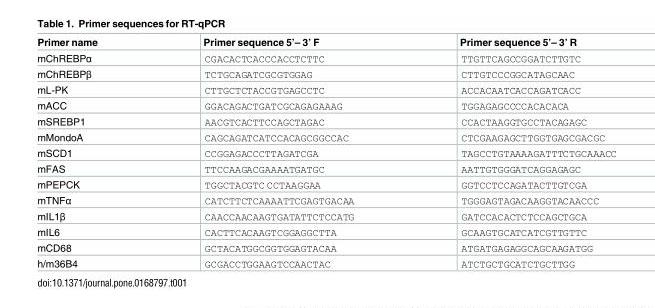table: (36, 37, 615, 269)
table column: (149, 37, 406, 269), (406, 37, 615, 269), (36, 37, 149, 269)
table column header: (36, 37, 615, 49)
table row: (36, 49, 615, 66), (36, 66, 615, 82), (36, 82, 615, 98), (36, 113, 615, 129), (36, 129, 615, 145), (36, 145, 615, 161), (36, 176, 615, 192), (36, 192, 615, 208), (36, 208, 615, 224), (36, 224, 615, 240), (36, 98, 615, 113), (36, 161, 615, 176), (36, 240, 615, 255), (36, 255, 615, 269), (36, 37, 615, 49)
